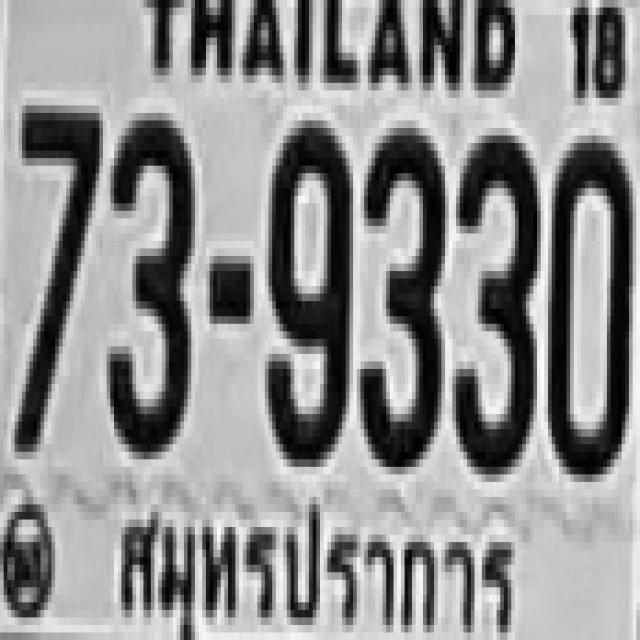0: (546, 128, 631, 474)
3: (103, 109, 191, 448), (357, 120, 441, 460), (454, 128, 535, 467)
7: (15, 98, 99, 444)
9: (265, 113, 346, 459)
SPK: (108, 487, 519, 640)
